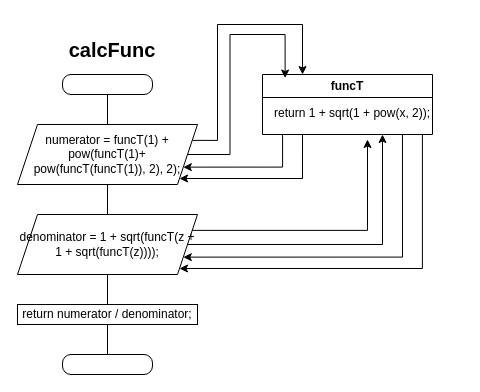
The diagram is 480 pixels wide and 392 high, and some of its shapes have lost their labels. The shapes that lost their labels are listed below. From the top down, each one's centre as x and y in pixels, then its label:
the point at 107,84: Початок
the point at 107,364: Кінець
